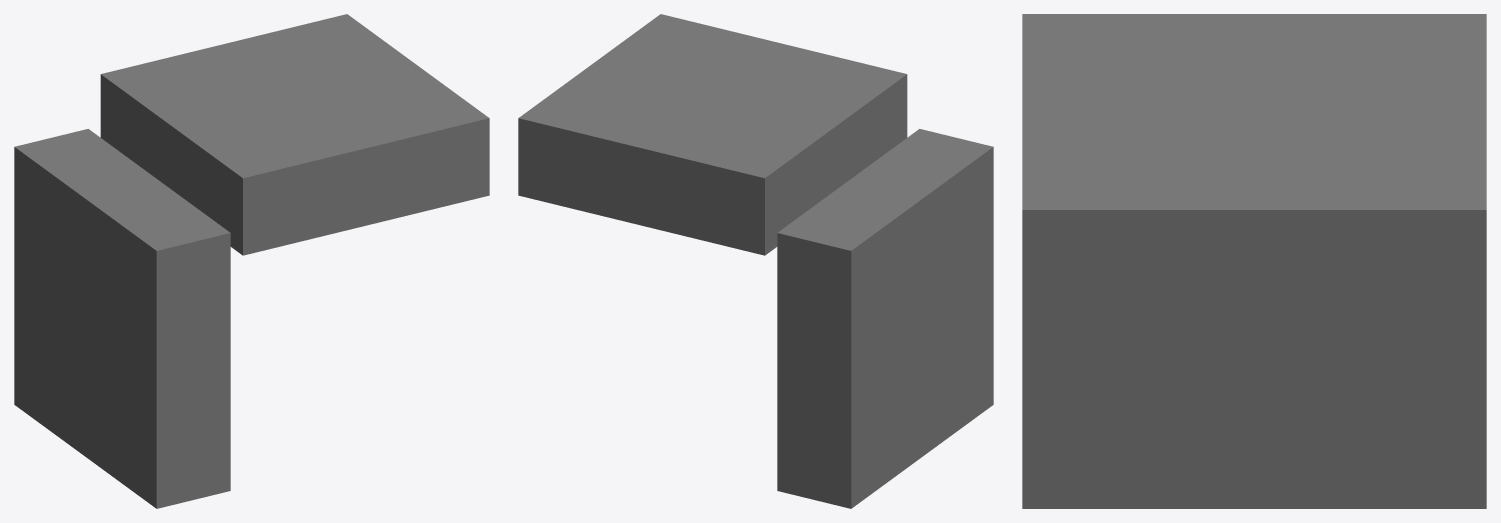
Rendered from У4.2_Кромки.glb.
3 renders of one model, left to right at view 1: azimuth 30°, elevation 25°; view 2: azimuth 150°, elevation 25°; view 3: azimuth 270°, elevation 25°, orthographic. The views are drawn at different scales.
Visible parts, largest first — view 1: node_id3; view 2: node_id3; view 3: node_id3.
Part boxes in pixels (x1,y1,x2,y2): node_id3: [14, 14, 489, 508]; node_id3: [518, 14, 993, 508]; node_id3: [1022, 14, 1486, 508].
Size of the model in its own units: 0.512 by 0.4551 by 0.3793.
1 material, 1 textured.
